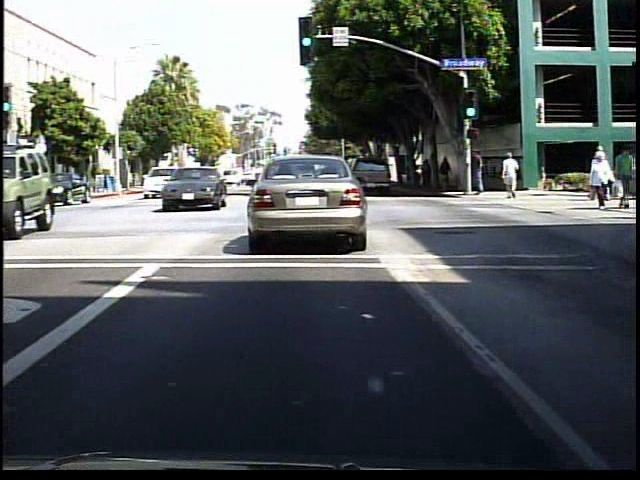person: (586, 150, 617, 209), (591, 142, 614, 206), (617, 146, 636, 210), (497, 149, 519, 202), (471, 147, 491, 203), (442, 155, 458, 192), (426, 158, 440, 191)
